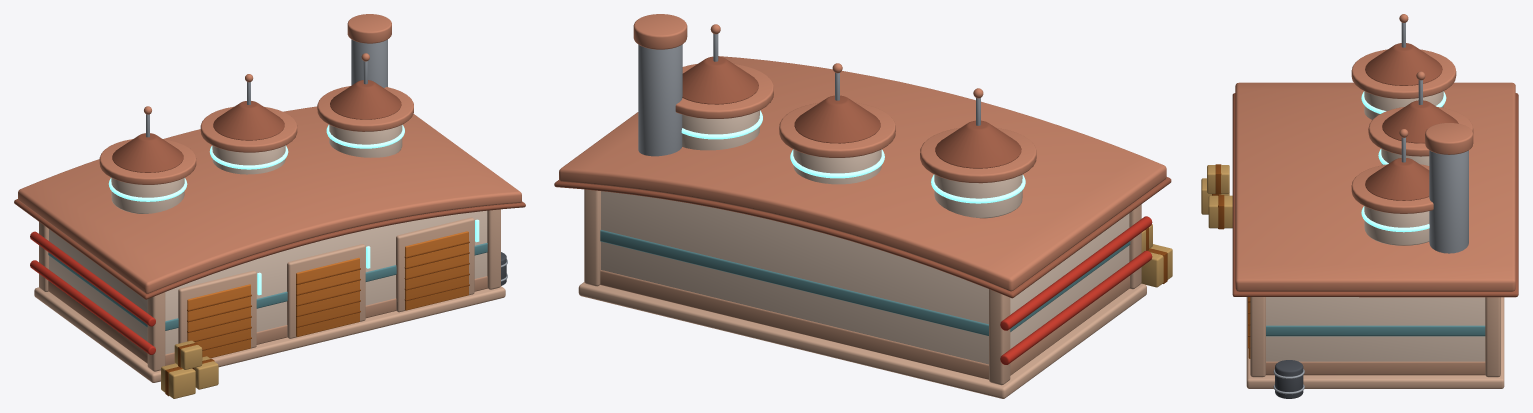
Rendered from factory.glb.
The picture shows the model from 3 angles, left to right: view 1: azimuth 30°, elevation 25°; view 2: azimuth 150°, elevation 25°; view 3: azimuth 270°, elevation 25°; orthographic projection. The views are drawn at different scales.
Parts seen in each view (by area): view 1: Cube.008, Cube.001, Cube, Cube.019, Cube.027, Cube.011, Cube.009, Cube.002, Cone.002, Cone.001, Cone, Cube.018 (+18 smaller); view 2: Cube.008, Cube.001, Cube, Cube.002, Cube.003, Cylinder.009, Cube.009, Cone.001, Cone, Cone.002, Cylinder.001, Cylinder.004 (+13 smaller); view 3: Cube.008, Cube.001, Cylinder.009, Cube, Cube.009, Cube.002, Cube.003, Cone, Cone.002, Cylinder.001, Cylinder.006, Cone.001 (+12 smaller).
Boxes of the visible parts, bbox=[...] form: Cube.008: bbox=[18, 106, 521, 293]; Cube.001: bbox=[49, 210, 487, 354]; Cube: bbox=[34, 286, 505, 382]; Cube.019: bbox=[296, 257, 359, 336]; Cube.027: bbox=[405, 231, 468, 310]; Cube.011: bbox=[187, 284, 250, 358]; Cube.009: bbox=[14, 199, 525, 299]; Cube.002: bbox=[48, 276, 487, 365]; Cone.002: bbox=[330, 80, 401, 119]; Cone.001: bbox=[213, 101, 284, 140]; Cone: bbox=[112, 133, 183, 172]; Cube.018: bbox=[287, 244, 365, 338]; Cube.008: bbox=[559, 56, 1166, 291]; Cube.001: bbox=[601, 191, 1129, 364]; Cube: bbox=[578, 282, 1146, 398]; Cube.002: bbox=[600, 270, 1129, 379]; Cube.003: bbox=[600, 230, 1130, 335]; Cylinder.009: bbox=[638, 44, 682, 156]; Cube.009: bbox=[554, 177, 1171, 298]; Cone.001: bbox=[794, 95, 880, 143]; Cone: bbox=[935, 120, 1021, 168]; Cone.002: bbox=[682, 56, 758, 104]; Cylinder.001: bbox=[920, 127, 1036, 183]; Cylinder.004: bbox=[779, 102, 895, 157]; Cube.008: bbox=[1235, 82, 1515, 291]; Cube.001: bbox=[1266, 297, 1485, 361]; Cylinder.009: bbox=[1429, 150, 1468, 253]; Cube: bbox=[1246, 297, 1504, 388]; Cube.009: bbox=[1232, 93, 1518, 297]; Cube.002: bbox=[1266, 361, 1485, 375]; Cube.003: bbox=[1266, 325, 1485, 336]; Cone: bbox=[1365, 43, 1442, 85]; Cone.002: bbox=[1365, 158, 1429, 200]; Cylinder.001: bbox=[1351, 49, 1456, 98]; Cylinder.006: bbox=[1364, 206, 1429, 245]; Cone.001: bbox=[1382, 100, 1458, 143].
Bounding box in the file's own units: 17.05 × 9.16 × 11.2.
